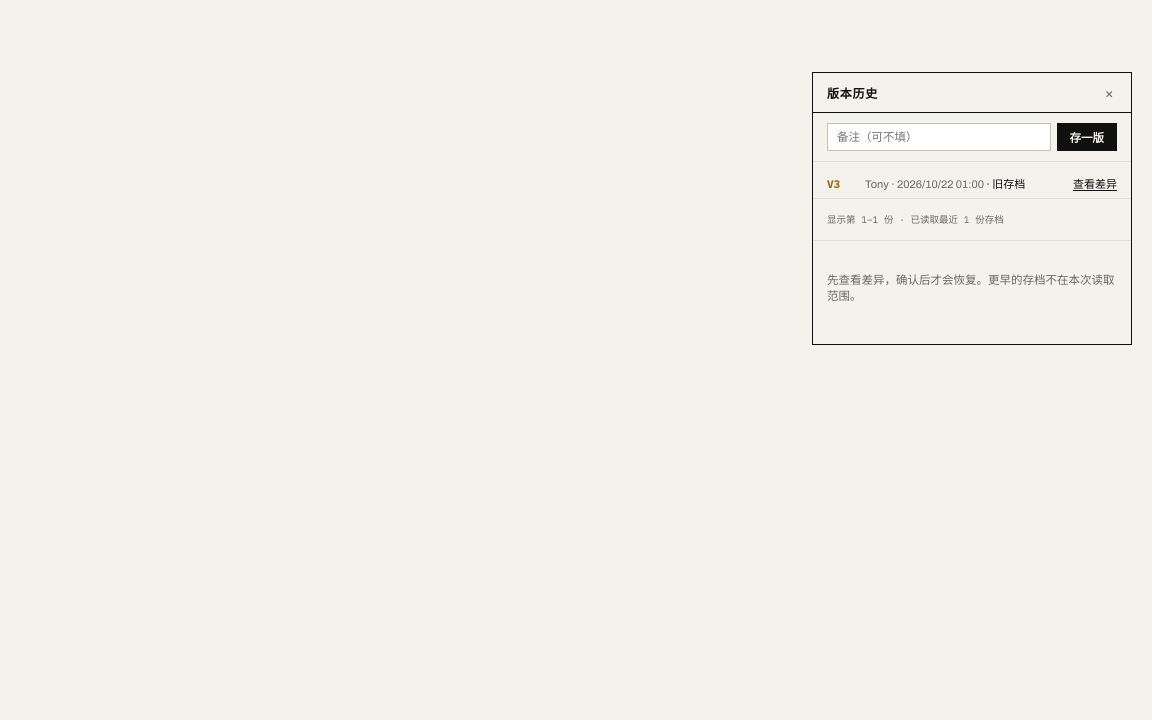
it: 版本预览与恢复 › shows exact lost mail content without restoring when only viewing differences
Step 1. Click the button "查看差异" → x=1095, y=183, box [1073,175,1117,191]
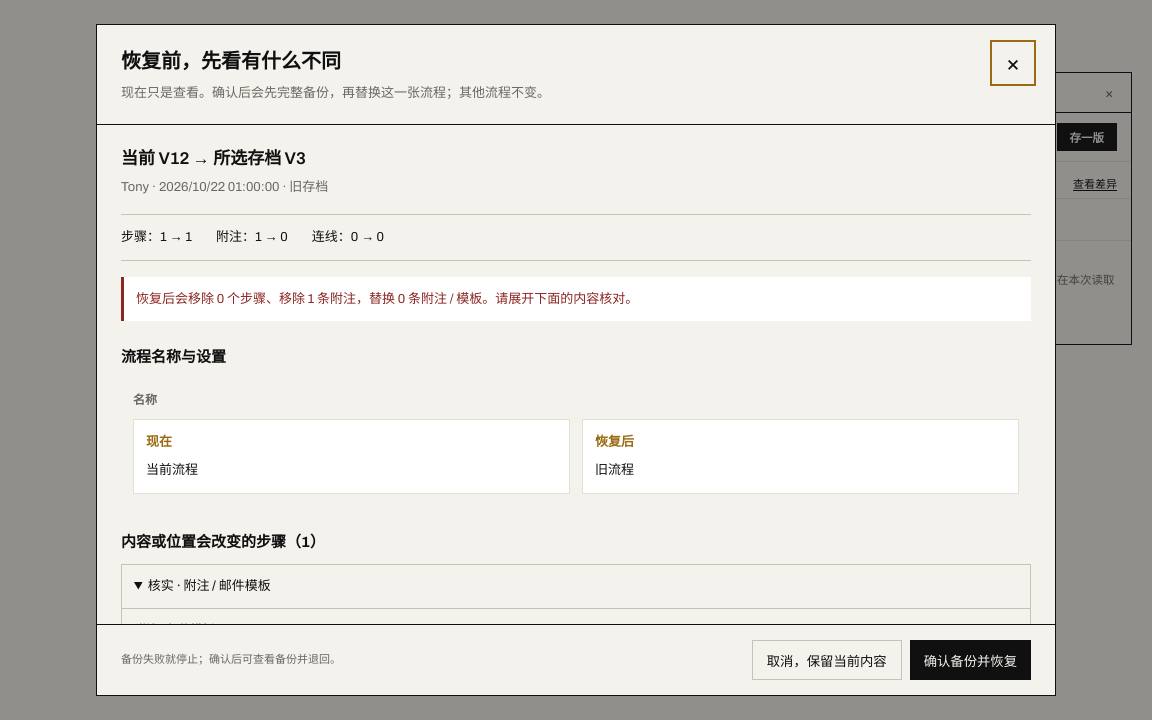
Check: the dialog is shown
Check: the button "确认备份并恢复" is shown, box [910,640,1031,680]
